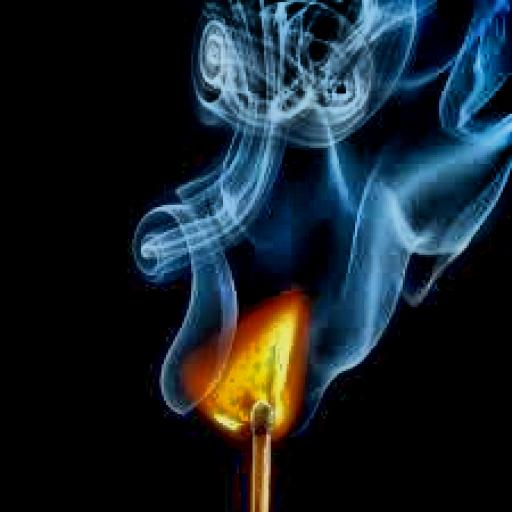fire: (168, 284, 332, 434)
